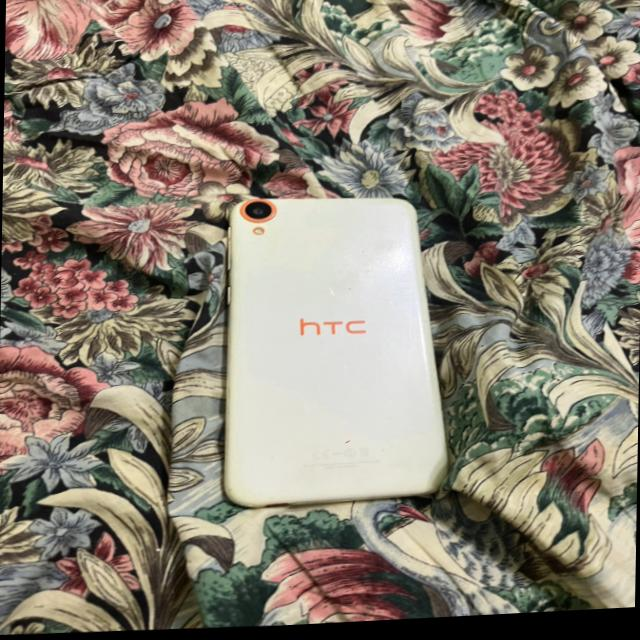Smartphone: (224, 201, 447, 510)
